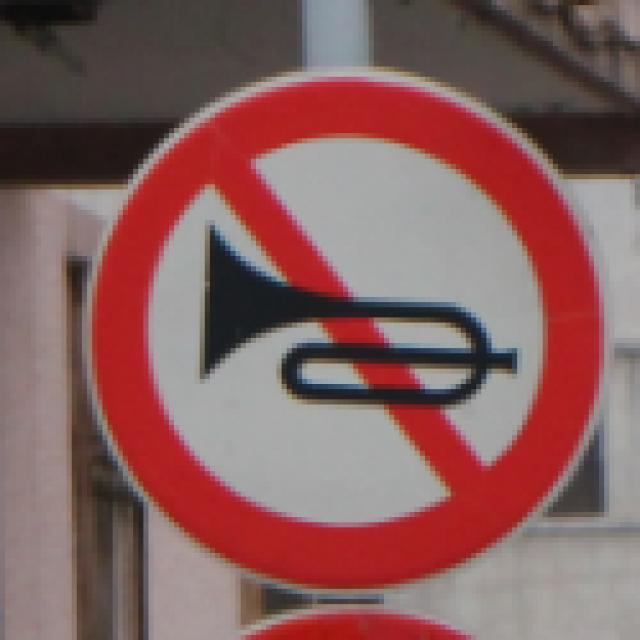No Horn: (85, 80, 614, 592)
